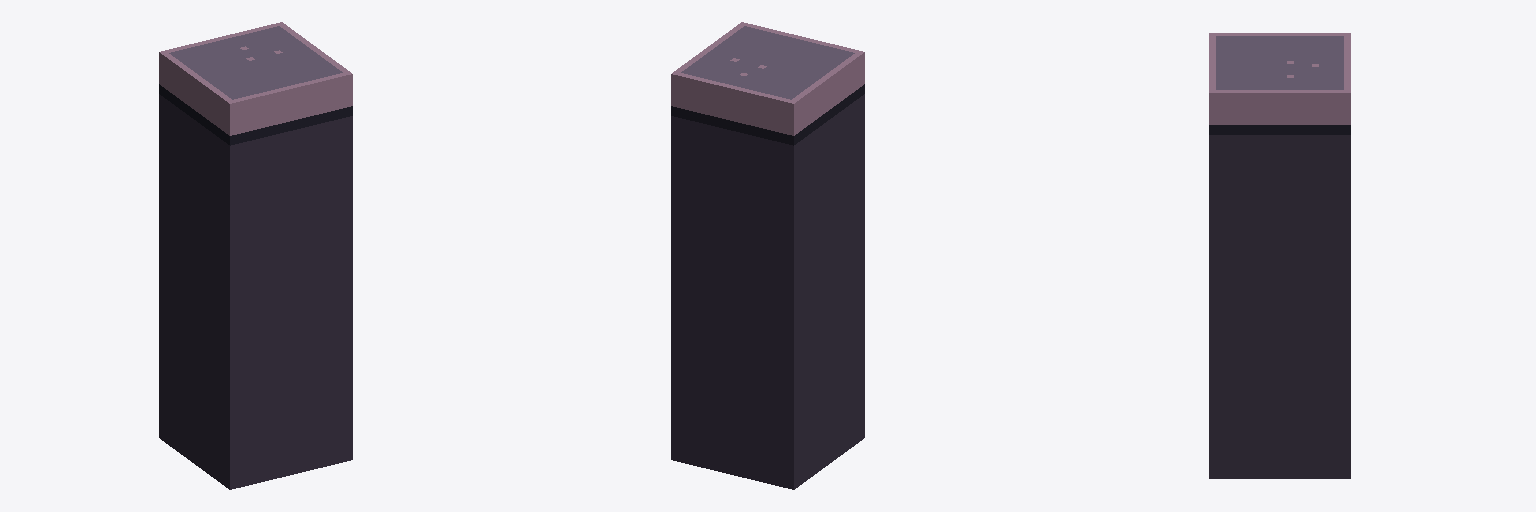
3 views of the same model, side by side, from view 1: azimuth 30°, elevation 25°; view 2: azimuth 150°, elevation 25°; view 3: azimuth 270°, elevation 25° (orthographic).
Visible parts, largest first — view 1: object 1; view 2: object 1; view 3: object 1.
Boxes of the visible parts, box(x1,y1,x2,y2) form: object 1: box(159, 22, 352, 489); object 1: box(671, 22, 864, 489); object 1: box(1209, 33, 1350, 478).
Bounding box in the file's own units: 4 × 12 × 4.
Materials: 1 (1 with a texture image).